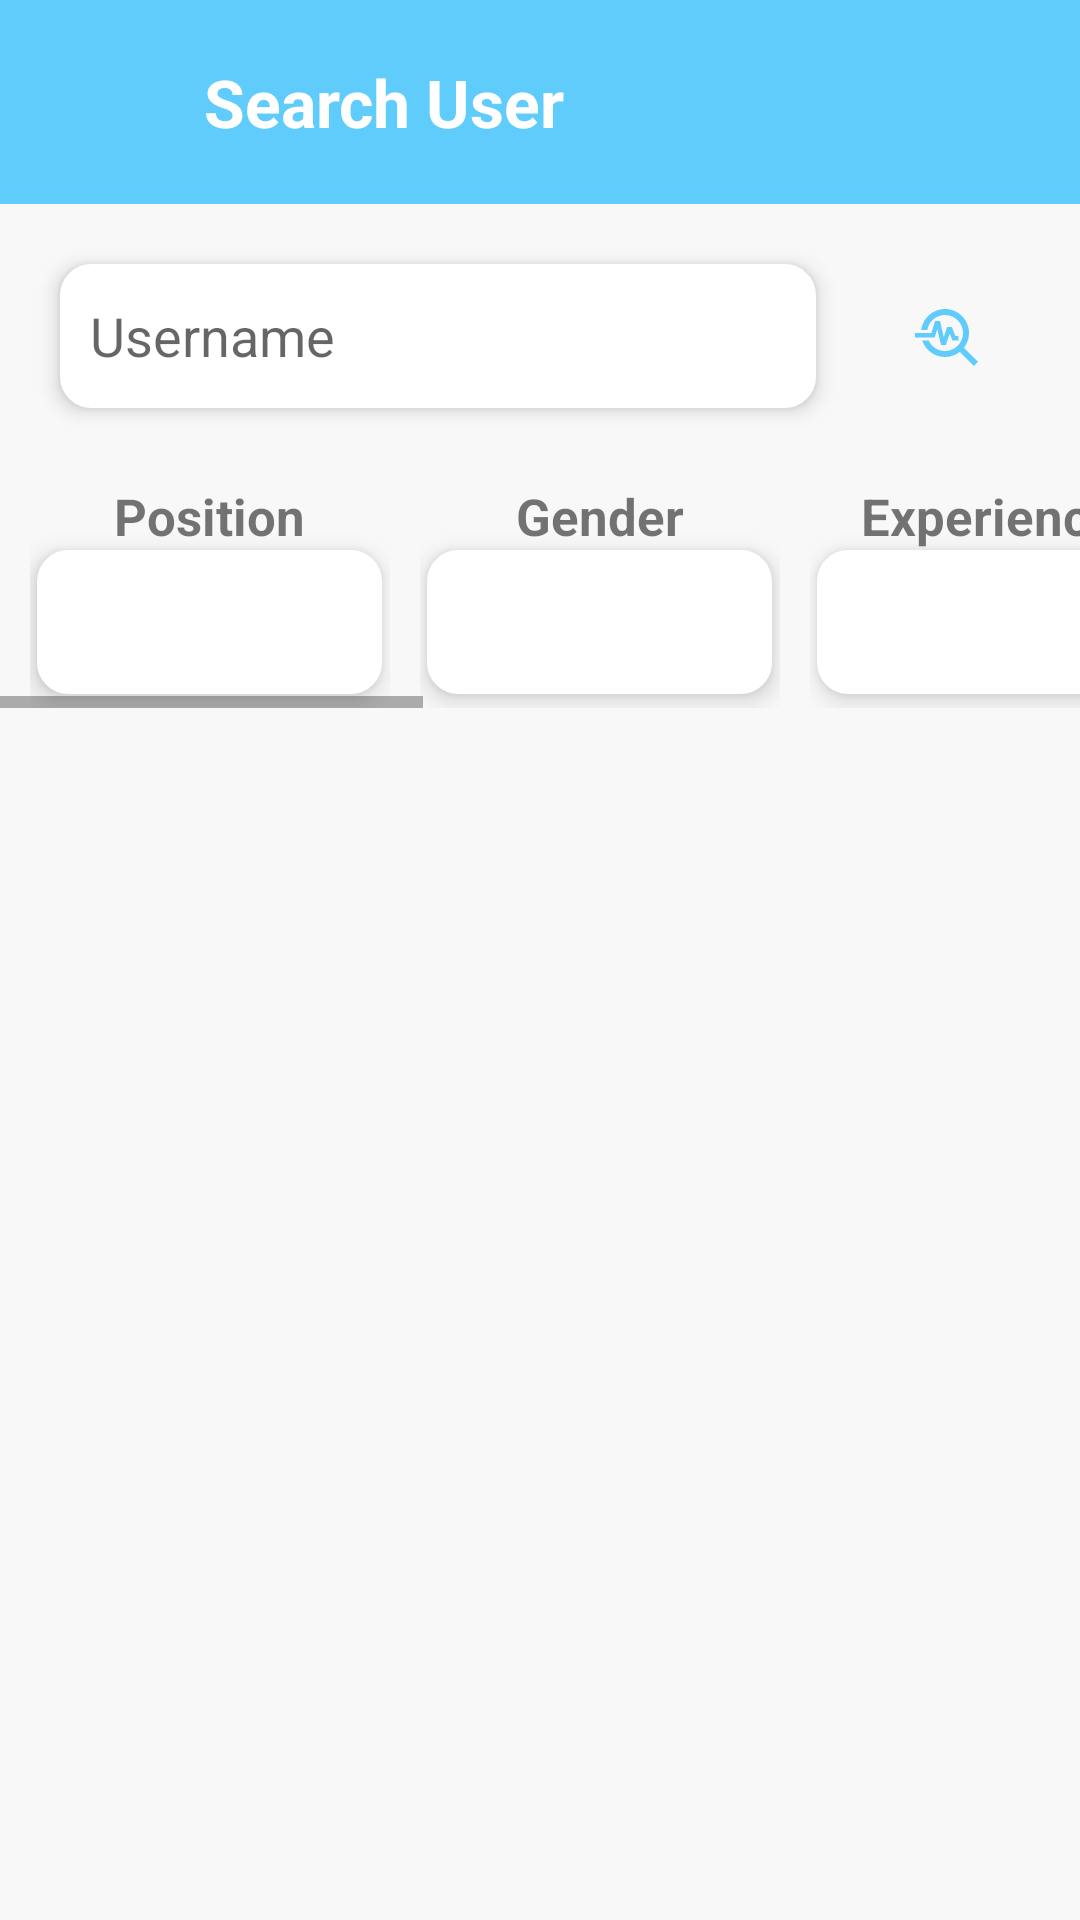

Named icons in this screenshot (1080px x 1920px) and their bounding boxes, [left=x1, top=y1, right=x2, bottom=y2]:
search: [left=915, top=309, right=978, bottom=366]
